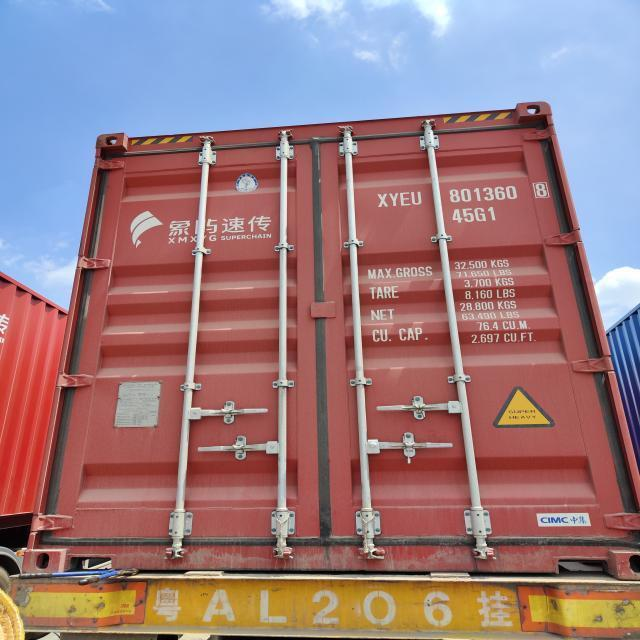ISO: (454, 206, 498, 224)
container_number: (378, 184, 544, 204)
